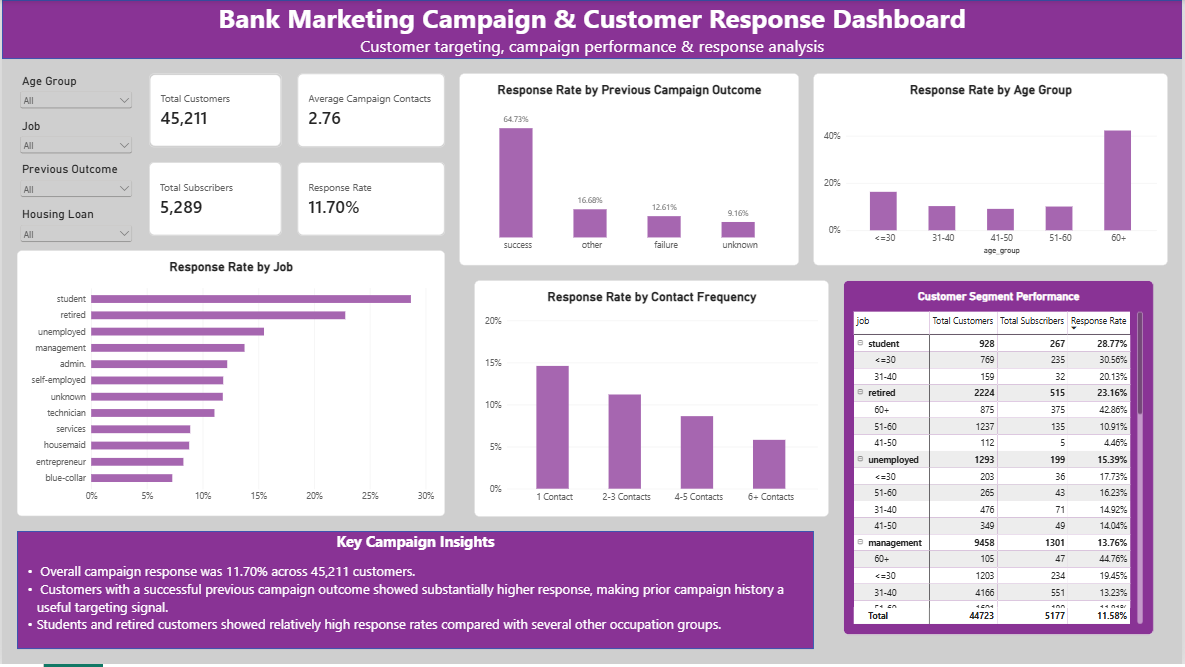

The dashboard page shown, as its layout file describes it:
{"tool":"powerbi","page":{"name":"Page 1","canvas":[1920,1080],"ordinal":0},"visuals":[{"type":"shape","box":[24,864,1296,192],"z":0},{"type":"shape","box":[0,0,1920,96],"z":1000},{"type":"textbox","box":[0,0,1920,96],"z":2000},{"type":"cardVisual","title":"Total Customers","fields":{"Data":["bank_marketing_master.Total Customers"]},"box":[240,120,216,120],"z":3000},{"type":"cardVisual","fields":{"Data":["bank_marketing_master.Total Subscribers"]},"box":[240,264,216,120],"z":4000},{"type":"cardVisual","fields":{"Data":["bank_marketing_master.Response Rate"]},"box":[480,264,240,120],"z":5000},{"type":"cardVisual","fields":{"Data":["bank_marketing_master.Average Campaign Contacts"]},"box":[480,120,240,120],"z":6000},{"type":"clusteredColumnChart","title":"Response Rate by Previous Campaign Outcome","fields":{"Category":["bank_marketing_master.poutcome"],"Y":["bank_marketing_master.Response Rate"]},"box":[744,120,552,312],"z":7000},{"type":"columnChart","title":"Response Rate by Age Group","fields":{"Category":["bank_marketing_master.age_group"],"Y":["bank_marketing_master.Response Rate"]},"box":[1320,120,576,312],"z":8000},{"type":"barChart","title":"Response Rate by Job","fields":{"Category":["bank_marketing_master.job"],"Y":["bank_marketing_master.Response Rate1"]},"box":[24,408,696,432],"z":9000},{"type":"clusteredColumnChart","title":"Response Rate by Contact Frequency","fields":{"Category":["bank_marketing_master.Contact Band"],"Y":["bank_marketing_master.Response Rate"]},"box":[768,456,576,384],"z":10000},{"type":"pivotTable","title":"Customer Segment Performance","fields":{"Rows":["bank_marketing_master.job","bank_marketing_master.age_group"],"Values":["bank_marketing_master.Total Customers","bank_marketing_master.Total Subscribers","bank_marketing_master.Response Rate"]},"box":[1368,456,504,576],"z":11000},{"type":"slicer","fields":{"Values":["bank_marketing_master.job"]},"box":[24,192,192,72],"z":12000},{"type":"slicer","fields":{"Values":["bank_marketing_master.age_group"]},"box":[24,120,192,72],"z":13000},{"type":"slicer","fields":{"Values":["bank_marketing_master.housing"]},"box":[24,336,192,72],"z":14000},{"type":"slicer","fields":{"Values":["bank_marketing_master.poutcome","bank_marketing_master.previous"]},"box":[24,264,192,72],"z":15000},{"type":"textbox","box":[24,864,1296,192],"z":16000}]}

Visuals, with their boxes in screenshot pixels (x1, y1, x2, y2), scaled from the page's 1920x1080 canvas onto the 1185x667 screenshot:
shape: 15, 534, 815, 652
shape: 0, 0, 1184, 59
textbox: 0, 0, 1184, 59
"Total Customers" cardVisual: 148, 74, 281, 148
cardVisual - bank_marketing_master.Total Subscribers: 148, 163, 281, 237
cardVisual - bank_marketing_master.Response Rate: 296, 163, 444, 237
cardVisual - bank_marketing_master.Average Campaign Contacts: 296, 74, 444, 148
"Response Rate by Previous Campaign Outcome" clusteredColumnChart: 459, 74, 800, 267
"Response Rate by Age Group" columnChart: 815, 74, 1170, 267
"Response Rate by Job" barChart: 15, 252, 444, 519
"Response Rate by Contact Frequency" clusteredColumnChart: 474, 282, 830, 519
"Customer Segment Performance" pivotTable: 844, 282, 1155, 637
slicer - bank_marketing_master.job: 15, 119, 133, 163
slicer - bank_marketing_master.age_group: 15, 74, 133, 119
slicer - bank_marketing_master.housing: 15, 208, 133, 252
slicer - bank_marketing_master.poutcome x bank_marketing_master.previous: 15, 163, 133, 208
textbox: 15, 534, 815, 652
